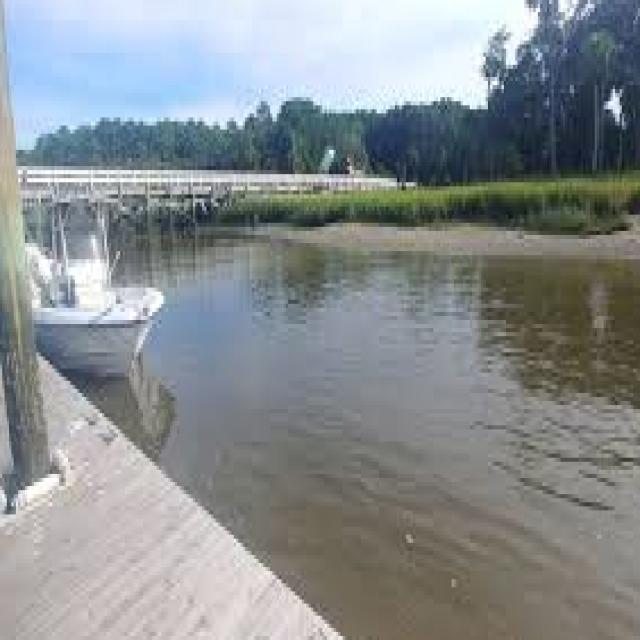houseboat: (13, 187, 168, 371)
